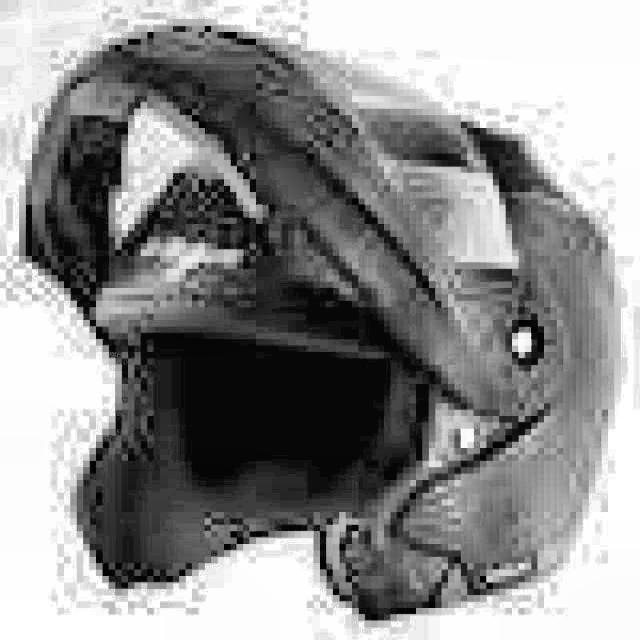Helmet: (13, 19, 625, 618)
